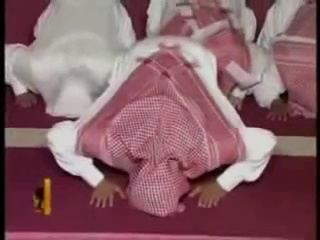sujud: (45, 37, 276, 214)
